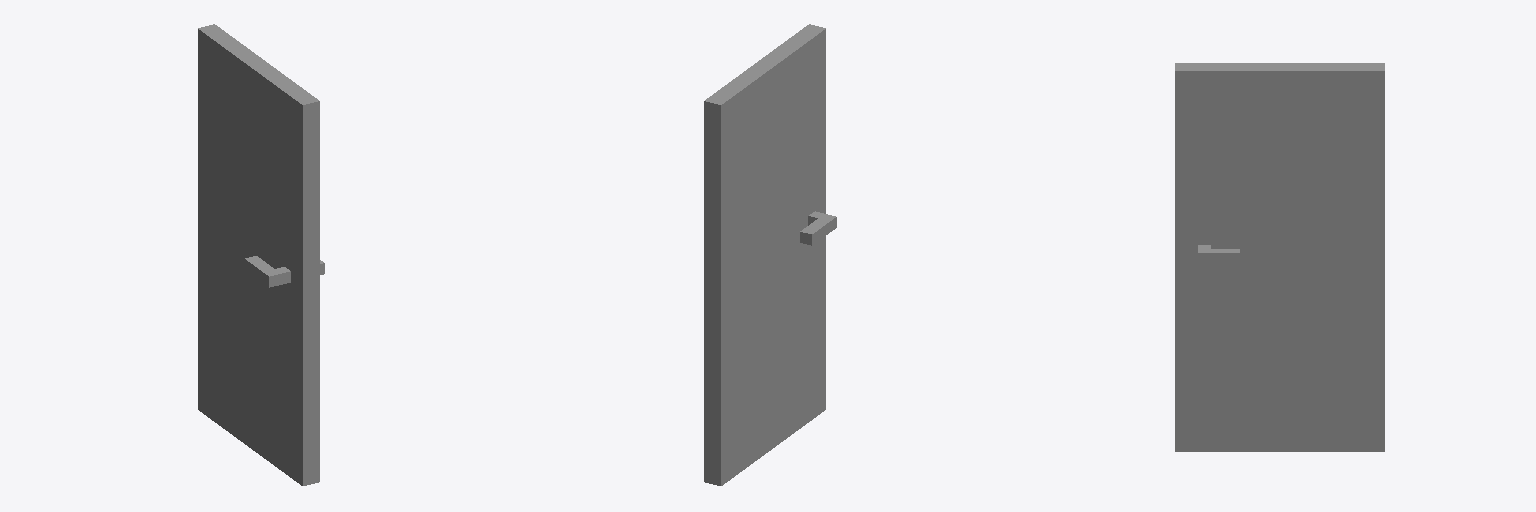
Rendered from door.obj.
3 views of the same model, side by side, from view 1: azimuth 30°, elevation 25°; view 2: azimuth 150°, elevation 25°; view 3: azimuth 270°, elevation 25° (orthographic).
Parts seen in each view (by area): view 1: Door_Cube.002; view 2: Door_Cube.002; view 3: Door_Cube.002.
Part boxes in pixels (bbox=[...]): Door_Cube.002: bbox=[198, 24, 324, 485]; Door_Cube.002: bbox=[704, 24, 836, 485]; Door_Cube.002: bbox=[1175, 63, 1384, 451].
Bounding box in the file's own units: 0.306 × 2 × 1.